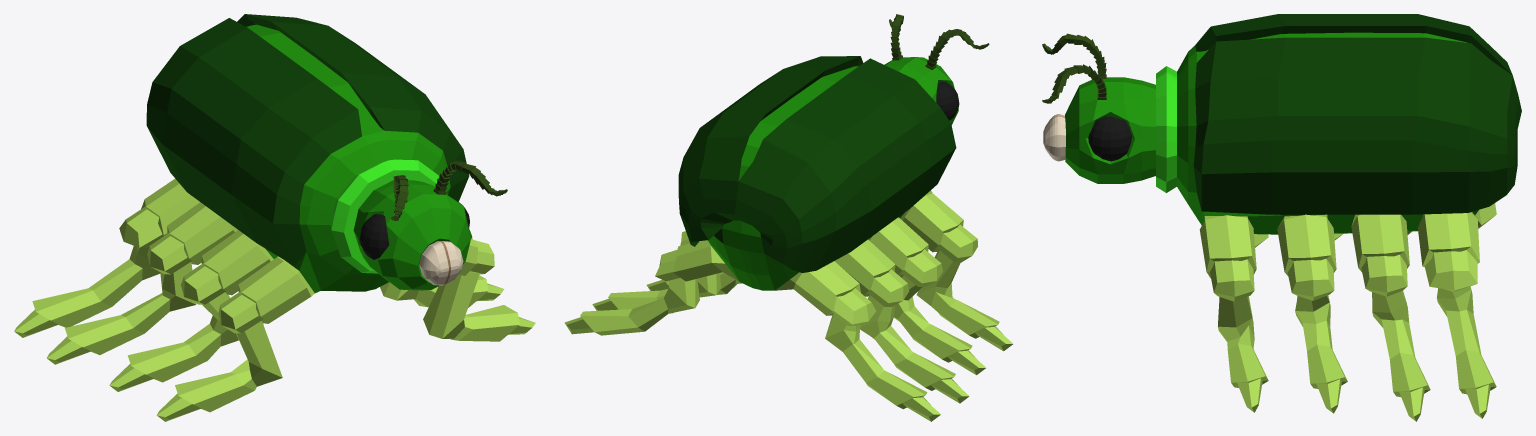
Rendered from bug.glb.
The picture shows the model from 3 angles, left to right: view 1: azimuth 30°, elevation 25°; view 2: azimuth 150°, elevation 25°; view 3: azimuth 270°, elevation 25°; orthographic projection. The views are drawn at different scales.
Visible parts, largest first — view 1: Body, Eye2; view 2: Body, Eye2; view 3: Body, Eye.
Part boxes in pixels (x1=…): Body: x1=14, y1=14, x2=535, y2=421; Eye2: x1=360, y1=214, x2=389, y2=259; Body: x1=564, y1=14, x2=1012, y2=421; Eye2: x1=936, y1=81, x2=959, y2=120; Body: x1=1042, y1=14, x2=1521, y2=421; Eye: x1=1088, y1=116, x2=1131, y2=161.
Size of the model in its own units: 5.55 by 3.52 by 5.23.
Materials: 1 (1 with a texture image).
